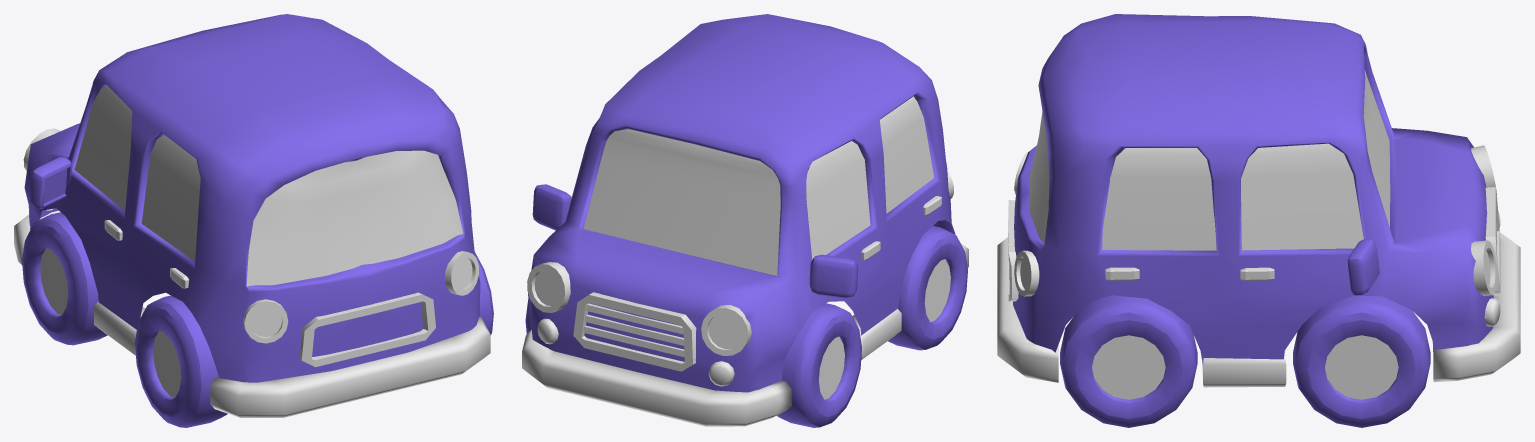
The model's file is Car.fbx.
3 views of the same model, side by side, from view 1: azimuth 30°, elevation 25°; view 2: azimuth 150°, elevation 25°; view 3: azimuth 270°, elevation 25° (orthographic). The views are drawn at different scales.
Parts seen in each view (by area): view 1: auto, Glas, Metall1; view 2: auto, Glas, Metall1; view 3: auto, Glas, Metall1.
Boxes of the visible parts, x1,y1,x2,y2 form: auto: (22, 14, 493, 427); Glas: (74, 86, 463, 286); Metall1: (14, 128, 490, 417); auto: (525, 14, 967, 427); Glas: (583, 96, 933, 275); Metall1: (522, 171, 968, 426); auto: (1013, 14, 1493, 427); Glas: (1029, 70, 1390, 250); Metall1: (997, 145, 1520, 399).
Size of the model in its own units: 2.13 by 1.74 by 2.72.
